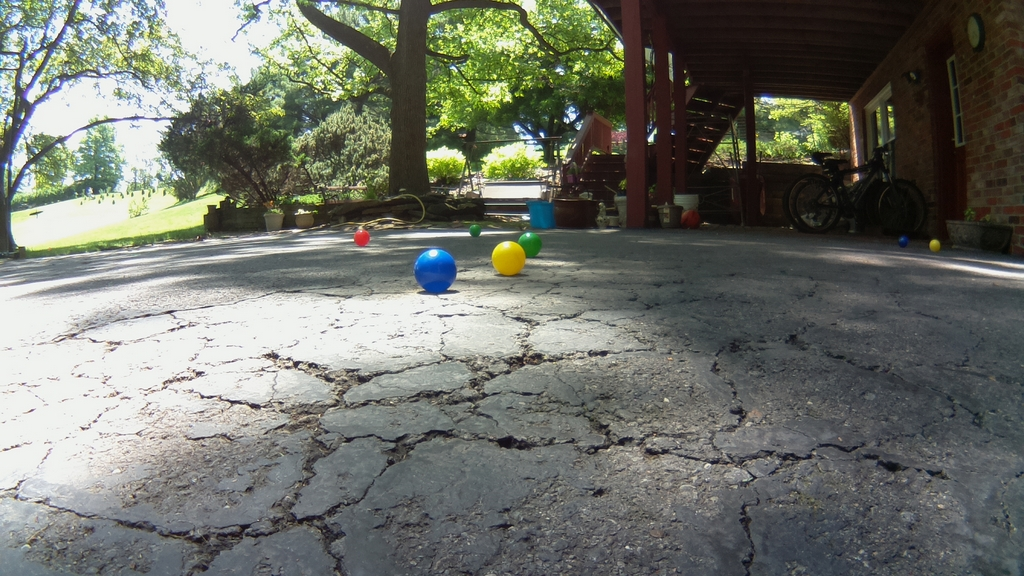ball: (355, 230, 369, 247)
